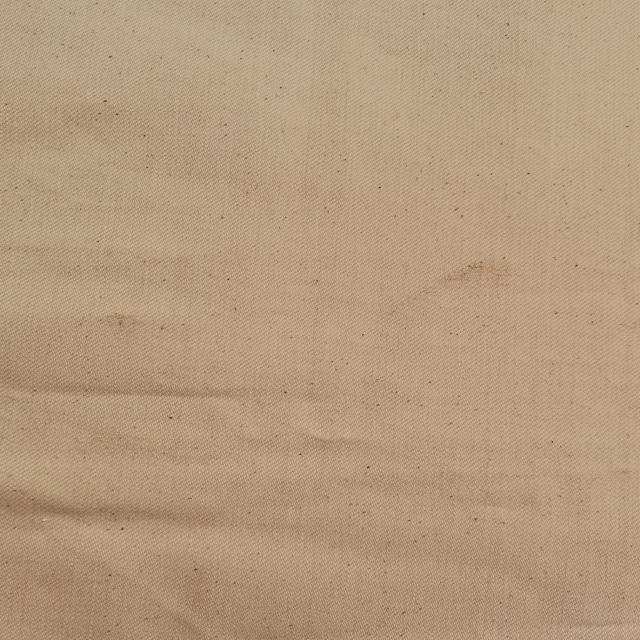taaaches: (394, 255, 524, 309), (100, 312, 144, 330)
